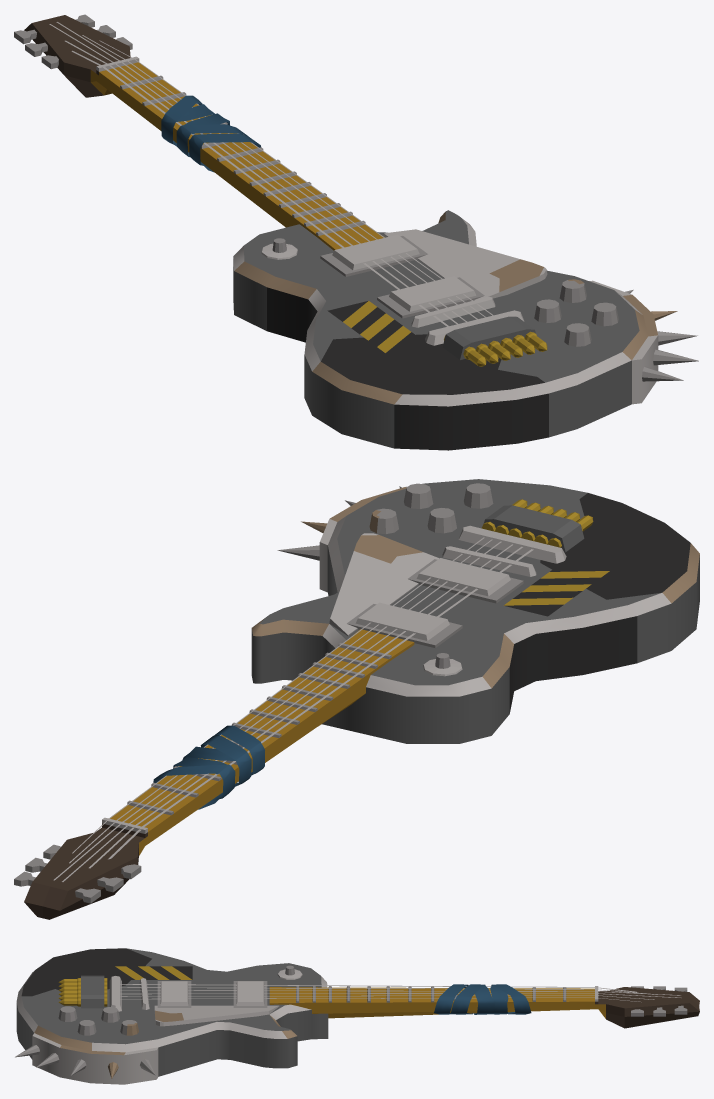
The model's file is Guitar.obj.
3 renders of one model, top to bottom at view 1: azimuth 30°, elevation 25°; view 2: azimuth 150°, elevation 25°; view 3: azimuth 270°, elevation 25°, orthographic. The views are drawn at different scales.
Visible parts, largest first — view 1: Guitar; view 2: Guitar; view 3: Guitar.
Part boxes in pixels (<box>): Guitar: <box>14,14,698,450</box>; Guitar: <box>14,479,699,919</box>; Guitar: <box>15,948,699,1084</box>.
Bounding box in the file's own units: 0.4012 × 0.0718 × 1.
1 material, 1 textured.
